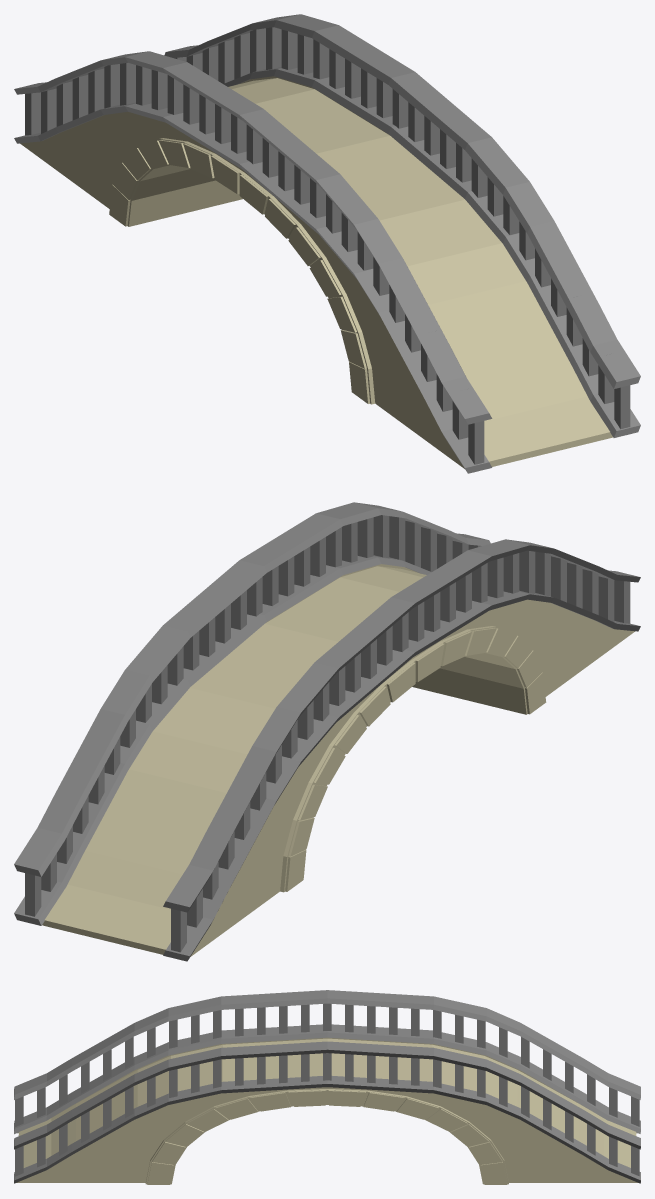
Rendered from Bridge_02.fbx.
3 renders of one model, top to bottom at view 1: azimuth 30°, elevation 25°; view 2: azimuth 150°, elevation 25°; view 3: azimuth 270°, elevation 25°, orthographic. The views are drawn at different scales.
Parts seen in each view (by area): view 1: Cube.017; view 2: Cube.017; view 3: Cube.017.
Boxes of the visible parts, x1,y1,x2,y2 form: Cube.017: [14, 14, 640, 473]; Cube.017: [14, 502, 640, 961]; Cube.017: [14, 990, 640, 1184].
Bounding box in the file's own units: 242 × 256 × 1063.
